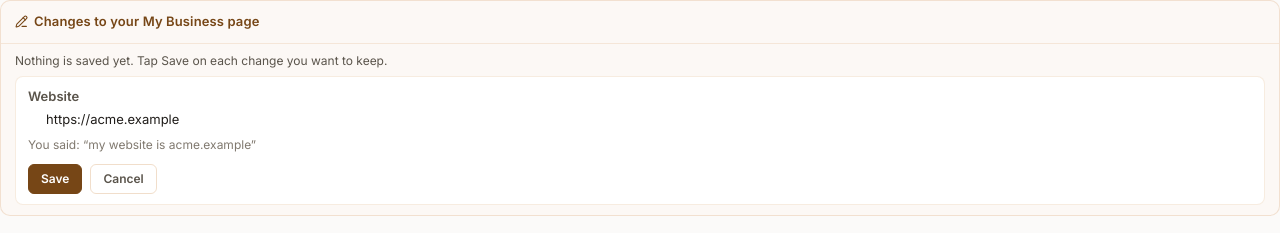
Test: ProfileUpdateArtifact › saves only on Save, and says Saved only when the server names the row
The image size is (1280, 233).
Click the button "Save".
click(55, 178)  # box [28,164,82,194]
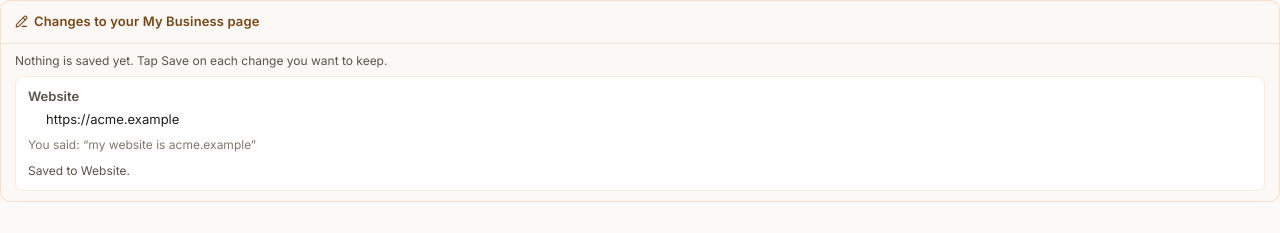
Expected: the text "Saved to Website." is shown, [28,162,130,178]
